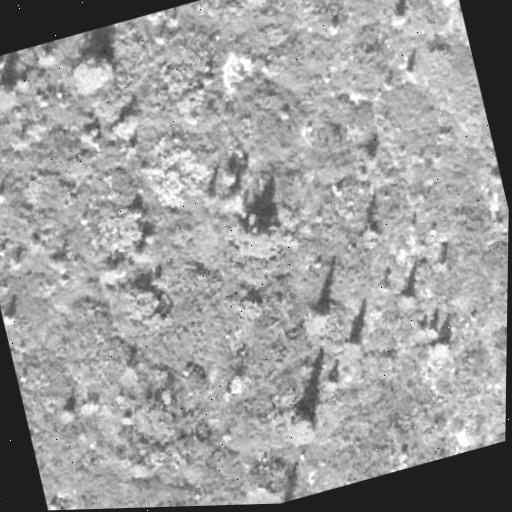tree-top: (71, 45, 120, 96), (236, 203, 280, 244), (104, 107, 142, 147), (284, 402, 322, 439), (212, 187, 249, 219), (336, 329, 368, 366), (302, 299, 335, 333), (430, 329, 457, 360), (394, 283, 423, 310), (0, 75, 18, 106)
